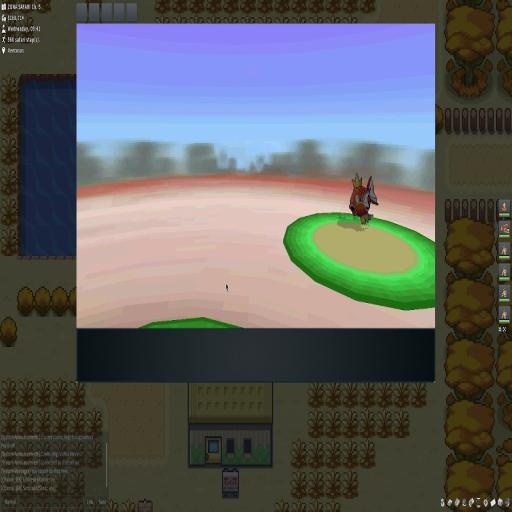MAGIKARP: (343, 169, 381, 230)
